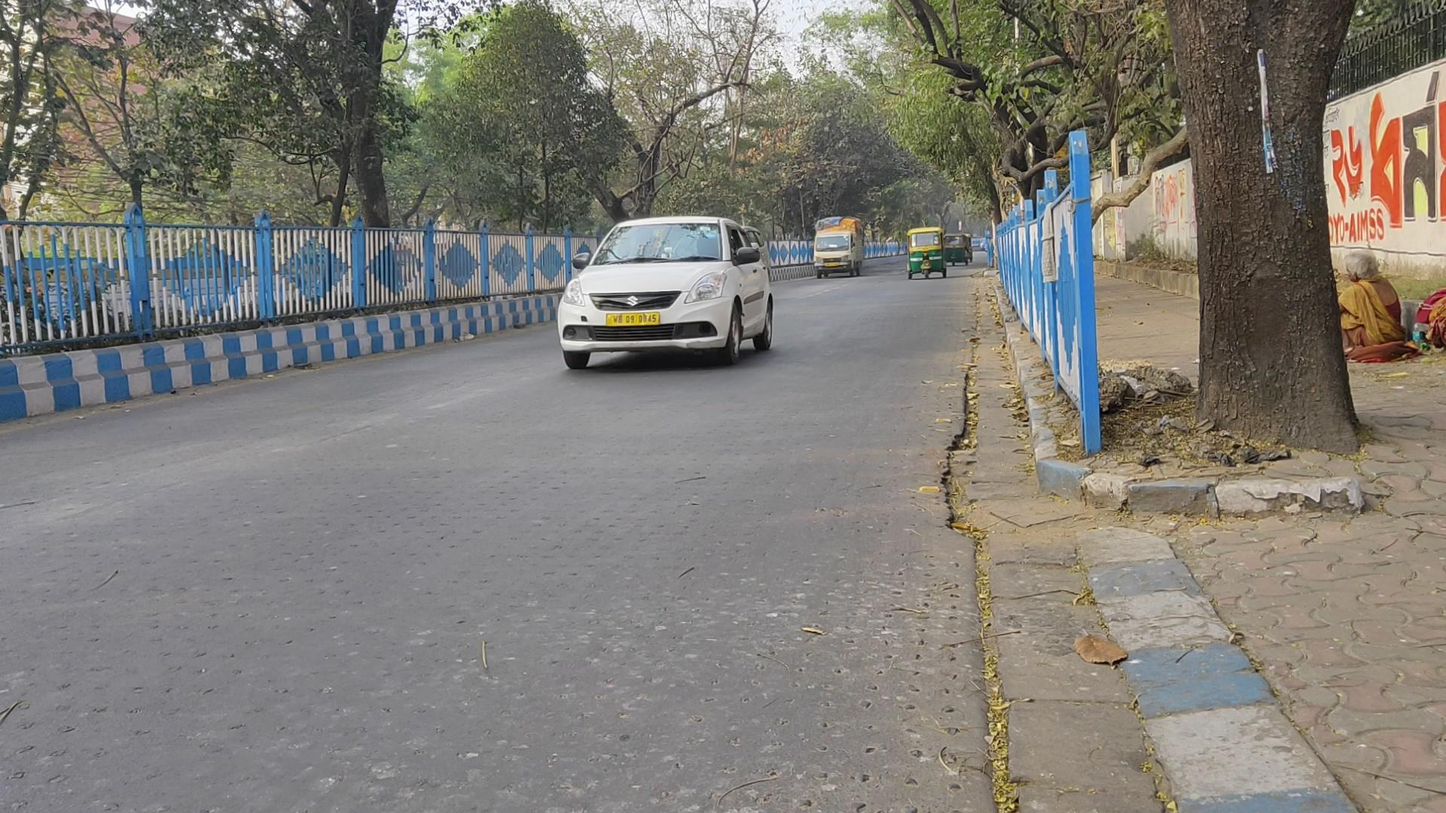Auto: (905, 225, 947, 282), (944, 230, 974, 269)
car: (558, 215, 773, 370)
van: (810, 217, 865, 279)
